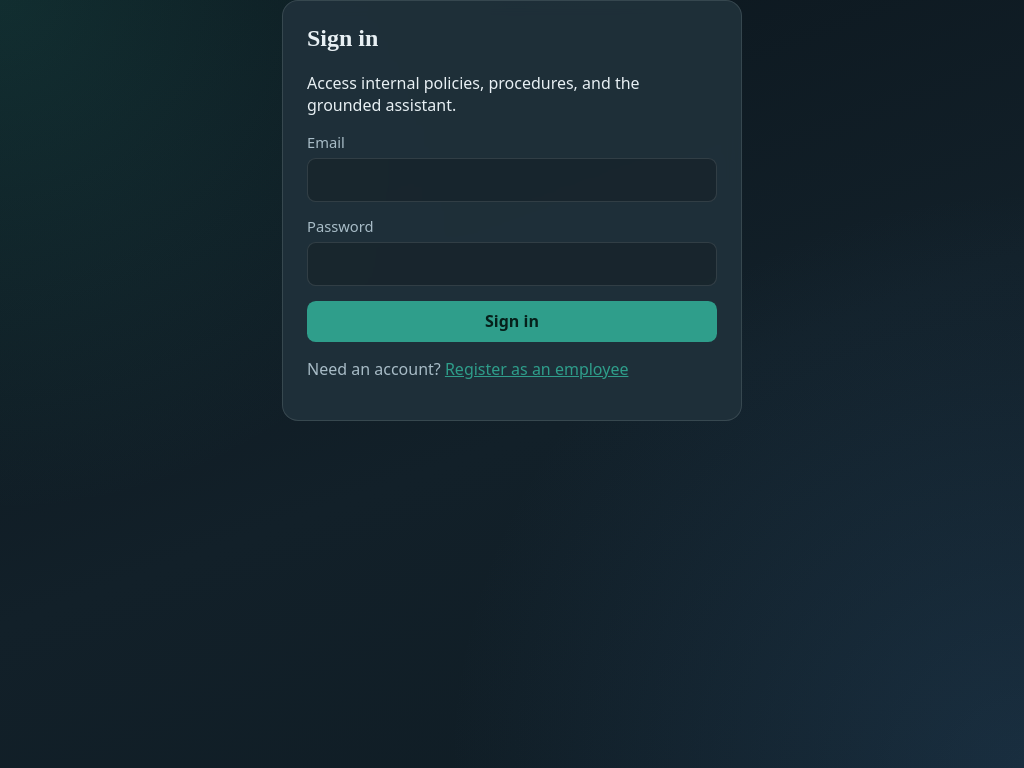
Scenario: LoginPage › shows API error message on failure
Type "admin@example.com" into the field labelled "Email" at (512,180), box left=307, top=158, right=717, bottom=202
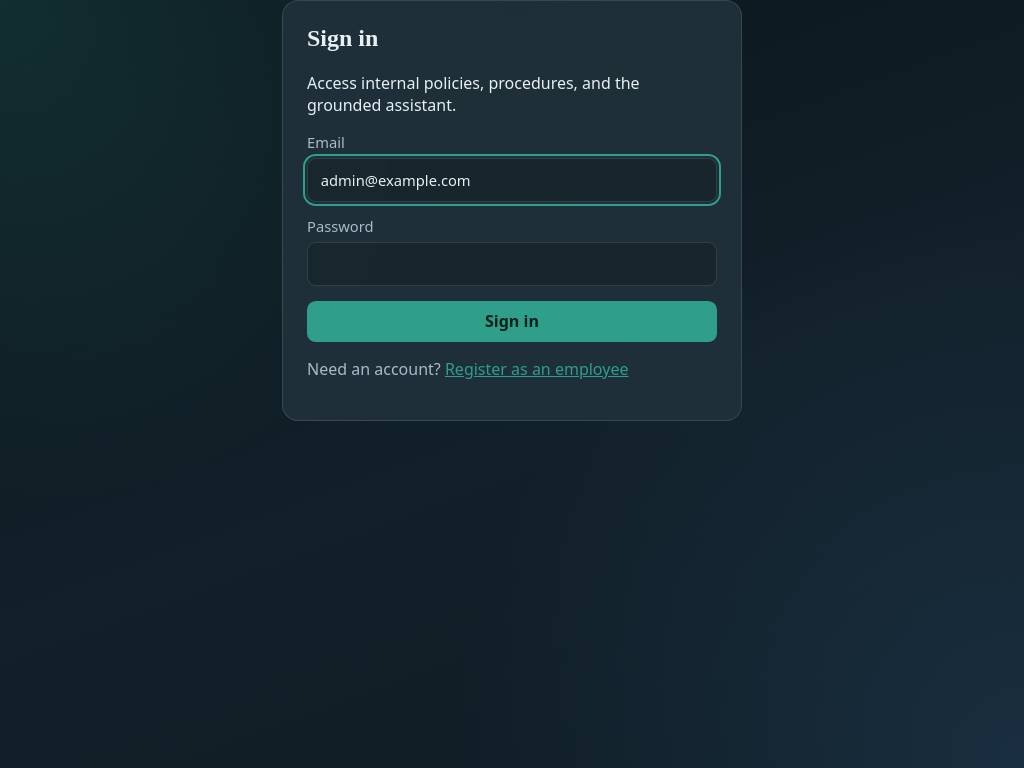
Type "wrong" into the password field labelled "Password" at (512,264), box left=307, top=242, right=717, bottom=286
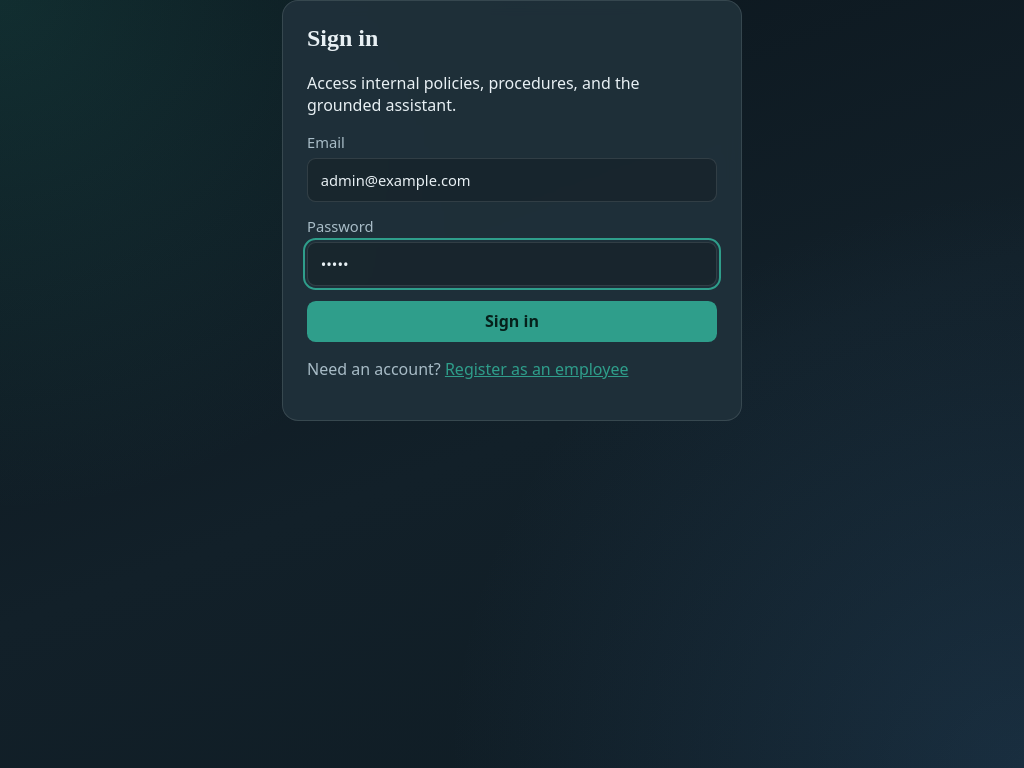
Click the button "Sign in" at (512,321), box left=307, top=301, right=717, bottom=342
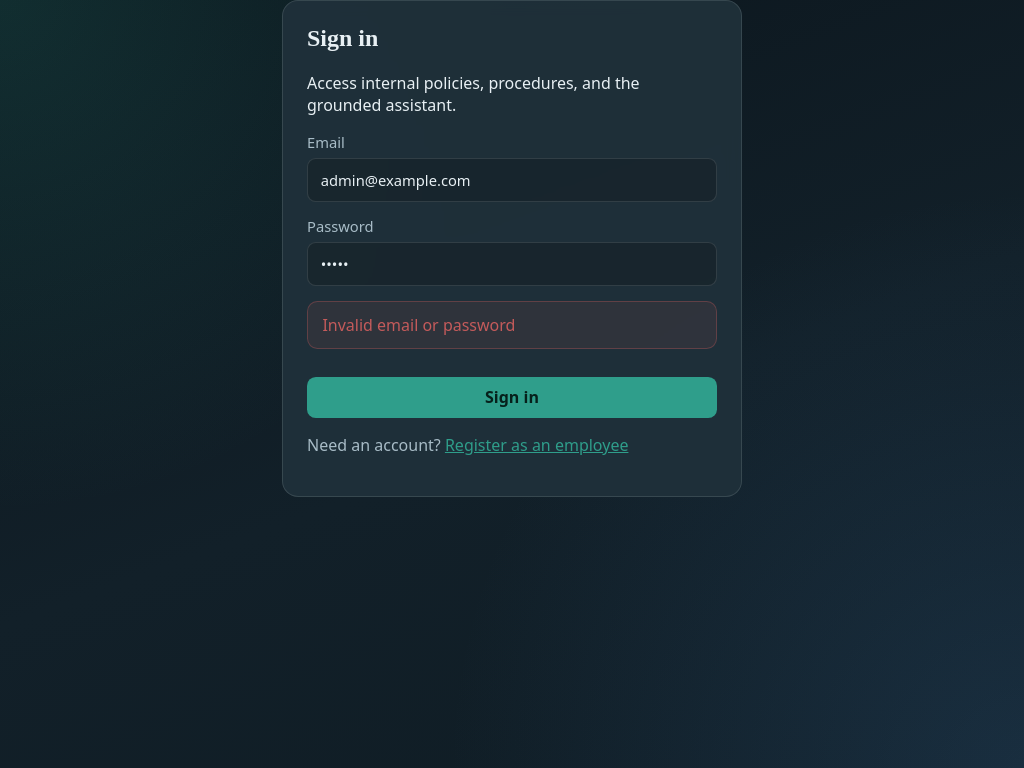
Now the text "Invalid email or password" is shown, box left=322, top=314, right=515, bottom=336
